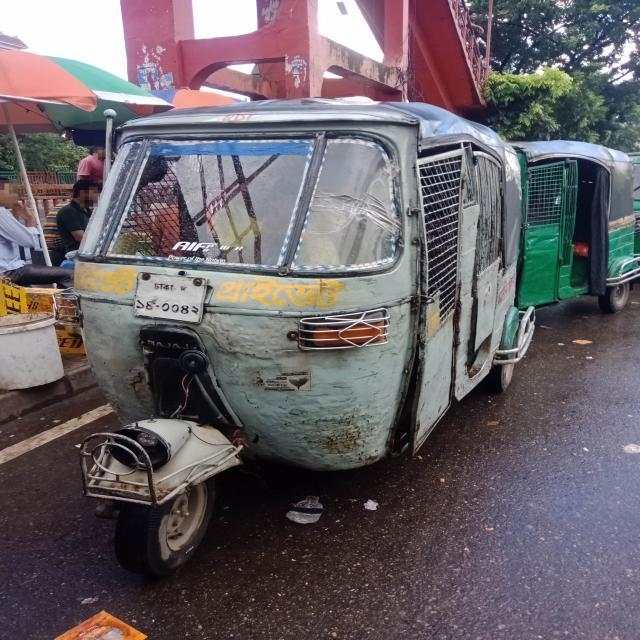CNG: (44, 91, 549, 595), (518, 131, 639, 326)
